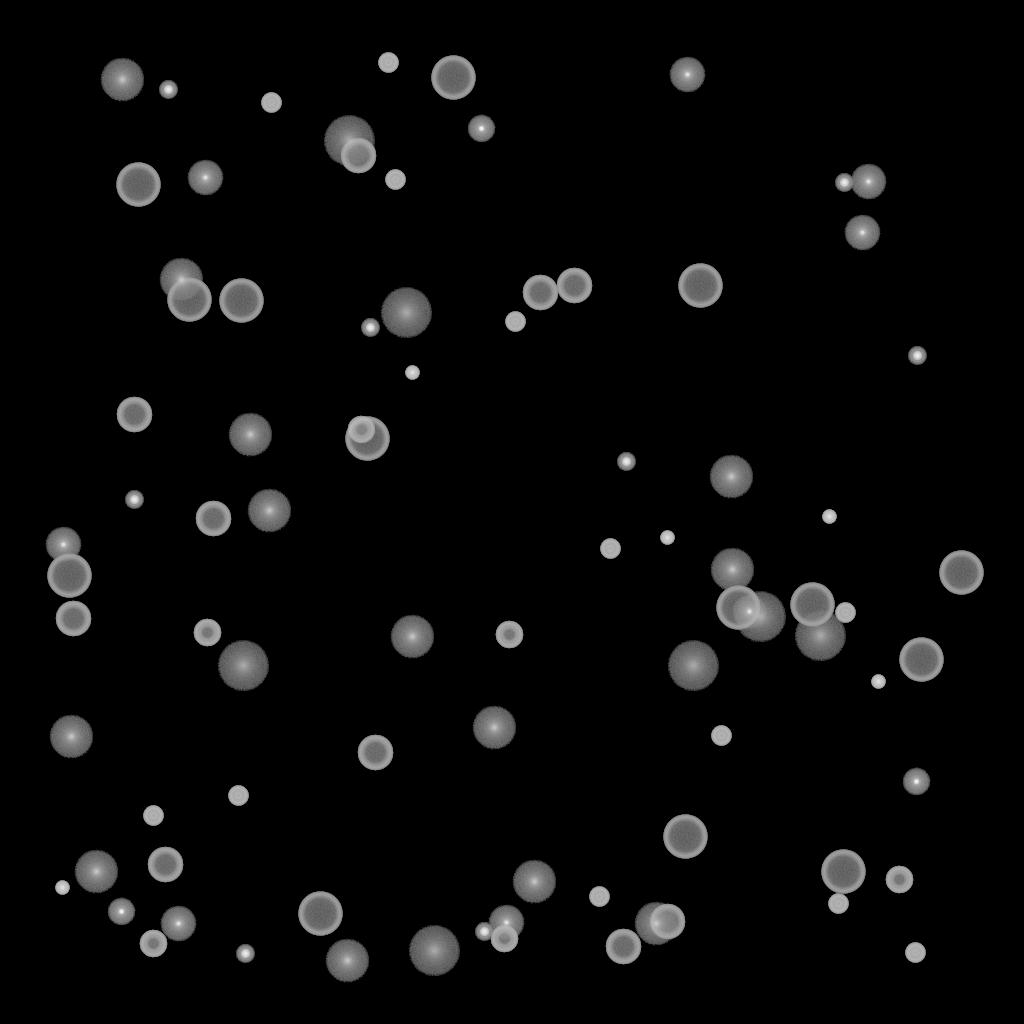depth:-10: (902, 768, 930, 796), (107, 898, 135, 926), (467, 115, 495, 143)
depth:-20: (125, 491, 143, 509), (361, 319, 379, 337), (475, 923, 493, 941), (617, 453, 635, 471), (159, 81, 177, 99), (236, 945, 254, 963), (835, 174, 853, 192), (908, 347, 926, 365)
depth:-30: (660, 531, 674, 545), (405, 366, 419, 380), (822, 510, 836, 524), (55, 881, 69, 895), (871, 675, 885, 689)
depth:-40: (828, 894, 848, 914), (905, 943, 925, 963), (600, 539, 620, 559), (711, 726, 731, 746), (505, 312, 525, 332), (589, 887, 609, 907), (261, 93, 281, 113), (385, 170, 405, 190), (143, 806, 163, 826), (378, 53, 398, 73), (835, 603, 855, 623), (228, 786, 248, 806)
depth:-50: (490, 925, 518, 953), (885, 866, 913, 894), (347, 416, 375, 444), (193, 619, 221, 647), (495, 621, 523, 649), (139, 930, 167, 958)
depth:-60: (147, 847, 183, 883), (556, 268, 592, 304), (649, 904, 685, 940), (340, 138, 376, 174), (195, 501, 231, 537), (55, 601, 91, 637), (357, 735, 393, 771), (116, 397, 152, 433), (605, 929, 641, 965), (522, 275, 558, 311)
depth:-70: (899, 638, 943, 682), (663, 815, 707, 859), (431, 56, 475, 100), (790, 583, 834, 627), (678, 264, 722, 308), (219, 279, 263, 323), (345, 417, 389, 461), (47, 554, 91, 598), (821, 850, 865, 894), (167, 278, 211, 322), (939, 551, 983, 595), (298, 892, 342, 936), (116, 163, 160, 207), (716, 586, 760, 630)
depth:0: (844, 215, 880, 251), (45, 527, 81, 563), (488, 905, 524, 941), (850, 164, 886, 200), (669, 57, 705, 93), (160, 906, 196, 942), (731, 594, 767, 630), (187, 160, 223, 196)
depth:10: (228, 413, 272, 457), (710, 548, 754, 592), (49, 715, 93, 759), (634, 902, 678, 946), (247, 489, 291, 533), (74, 850, 118, 894), (159, 258, 203, 302), (512, 860, 556, 904), (390, 615, 434, 659), (709, 455, 753, 499), (325, 939, 369, 983), (100, 58, 144, 102), (472, 706, 516, 750)
depth:20: (667, 641, 719, 691), (217, 641, 269, 691), (734, 592, 786, 642), (323, 116, 375, 166), (380, 288, 432, 338), (408, 926, 460, 976), (794, 611, 846, 661)
